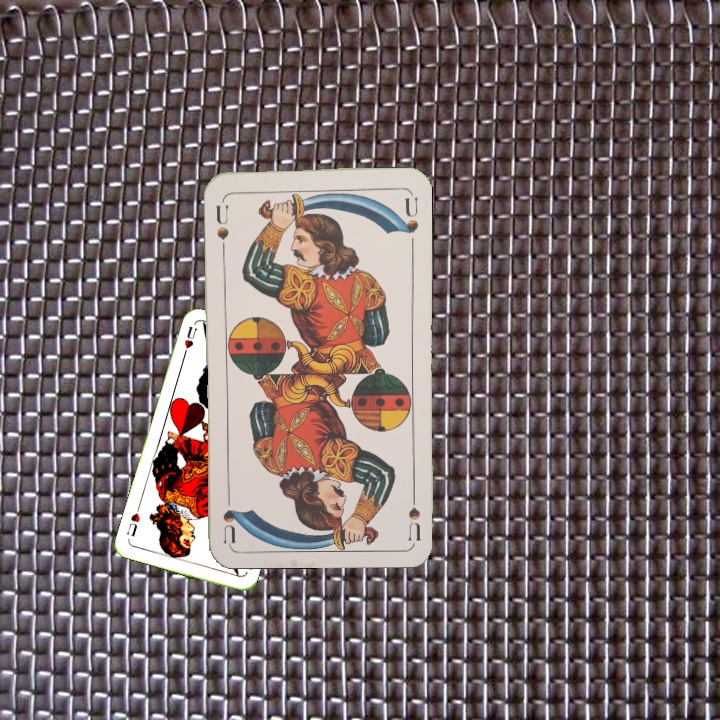HU: (178, 323, 199, 362)
SU: (404, 482, 424, 541), (212, 201, 232, 242)
